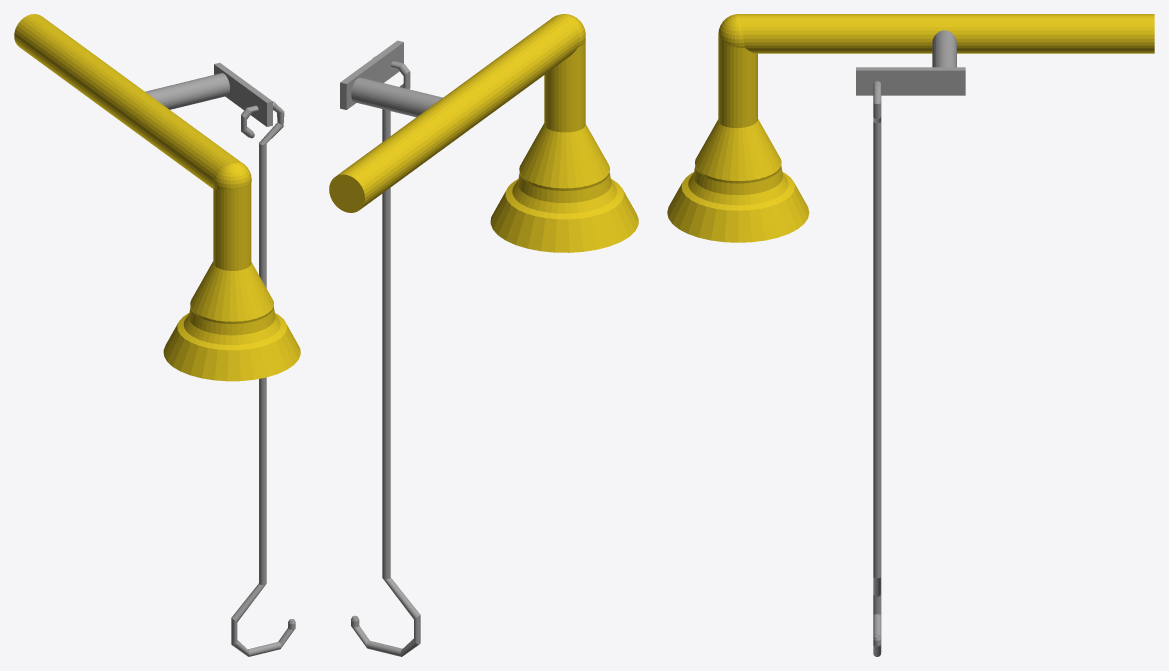
The model's file is nooddouche.fbx.
3 views of the same model, side by side, from view 1: azimuth 30°, elevation 25°; view 2: azimuth 150°, elevation 25°; view 3: azimuth 270°, elevation 25° (orthographic). The views are drawn at different scales.
Visible parts, largest first — view 1: ShowerHead, Handle, Pivot part; view 2: ShowerHead, Handle, Pivot part; view 3: ShowerHead, Handle, Pivot part.
Boxes of the visible parts, x1,y1,x2,y2 form: ShowerHead: [14, 14, 300, 381]; Handle: [231, 101, 295, 656]; Pivot part: [145, 62, 272, 126]; ShowerHead: [329, 14, 638, 252]; Handle: [351, 56, 420, 656]; Pivot part: [340, 40, 442, 117]; ShowerHead: [667, 14, 1154, 242]; Handle: [873, 81, 881, 656]; Pivot part: [856, 30, 965, 95].
Size of the model in its own units: 70.83 by 201 by 152.
